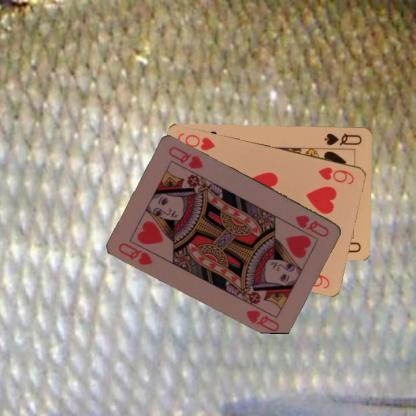6h: (316, 164, 356, 186)
Qh: (116, 239, 154, 266), (292, 212, 330, 238)
Qs: (322, 130, 364, 147)
